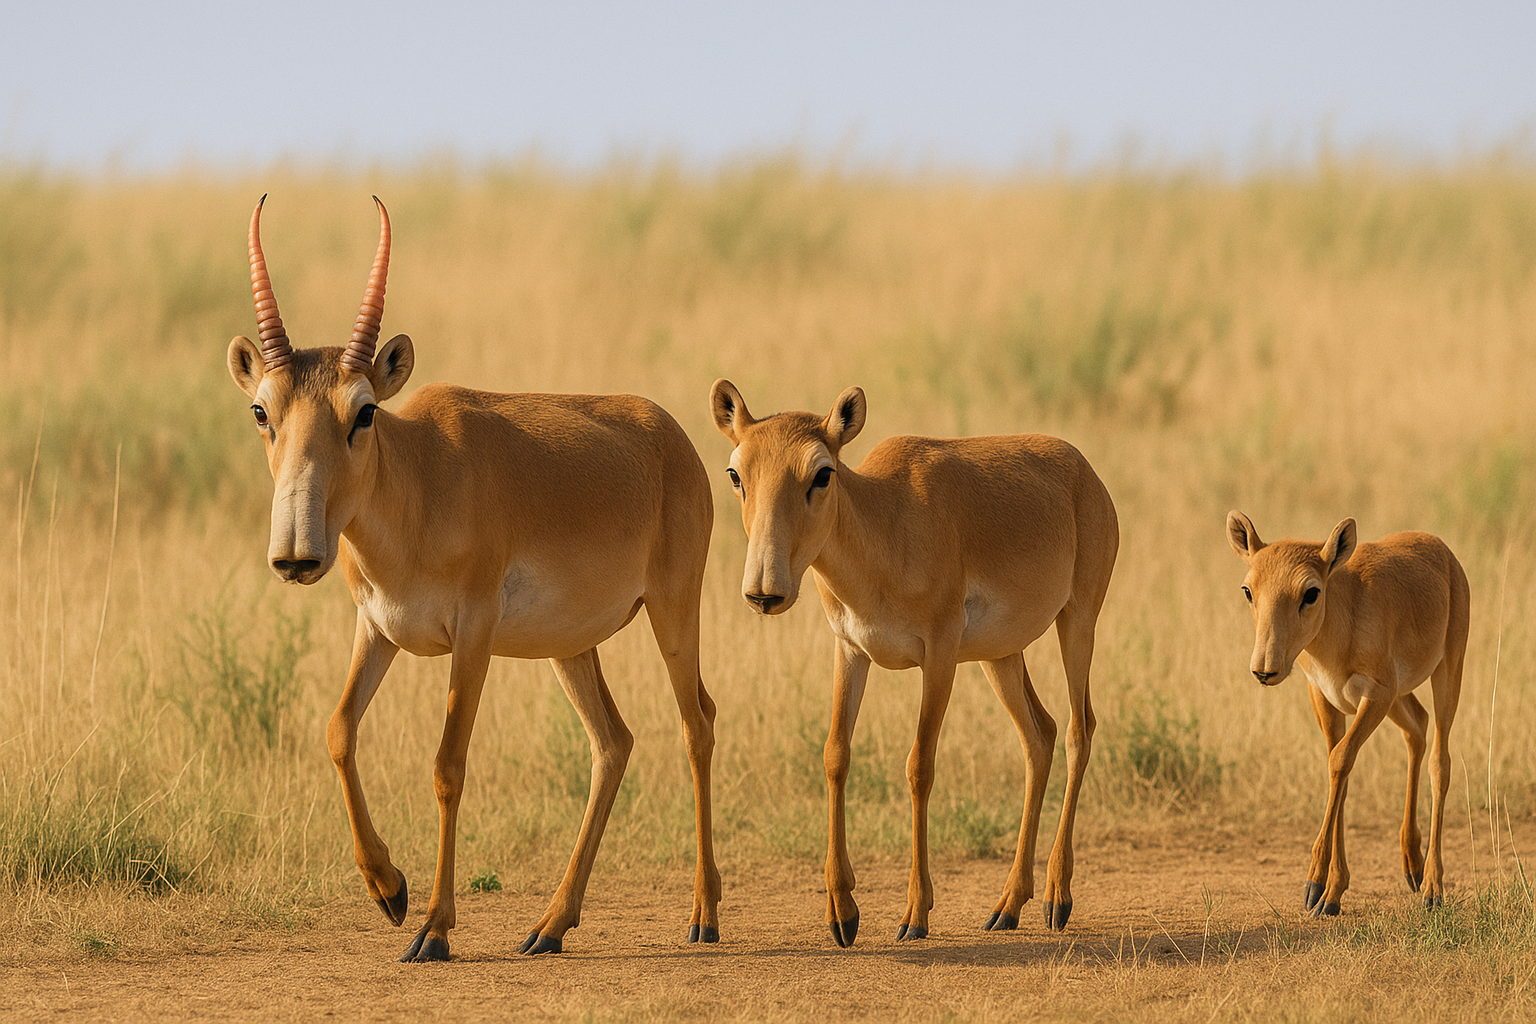saiga: (223, 191, 725, 965), (707, 376, 1125, 949), (1224, 510, 1473, 921)
